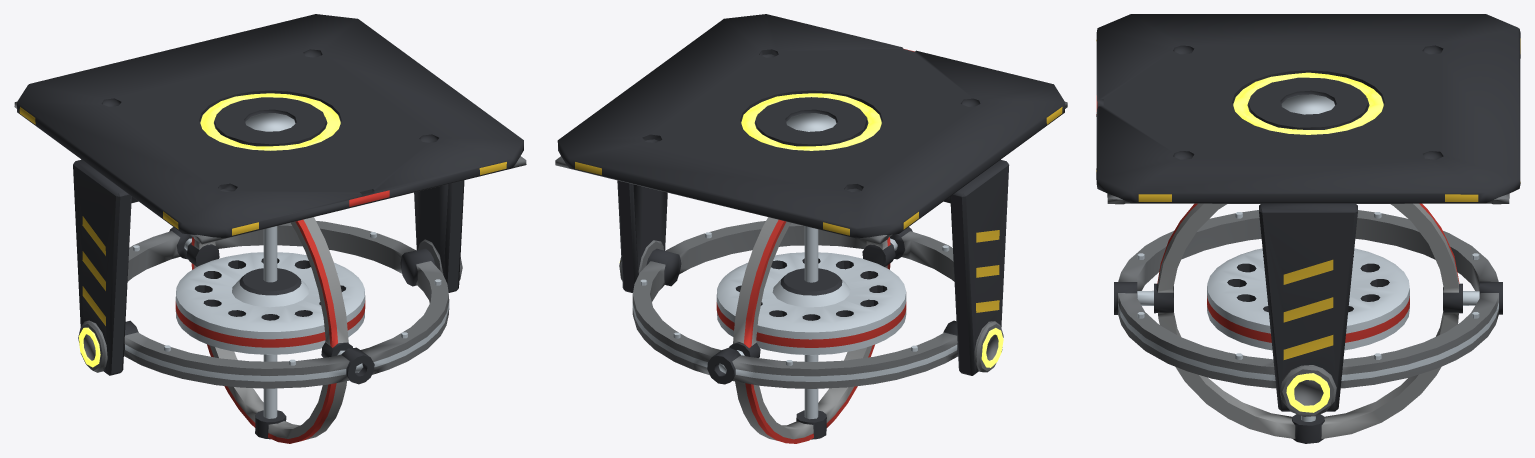
File: R4M_Gyroscope_LOD1.fbx
3 views of the same model, side by side, from view 1: azimuth 30°, elevation 25°; view 2: azimuth 150°, elevation 25°; view 3: azimuth 270°, elevation 25° (orthographic). The views are drawn at different scales.
Parts seen in each view (by area): view 1: R4M_Gyroscope_Yoke_LOD1, R4M_Gyroscope_OuterRing_LOD1, R4M_Gyroscope_Rotor_LOD1, R4M_Gyroscope_InnerRing_LOD1; view 2: R4M_Gyroscope_Yoke_LOD1, R4M_Gyroscope_OuterRing_LOD1, R4M_Gyroscope_Rotor_LOD1, R4M_Gyroscope_InnerRing_LOD1; view 3: R4M_Gyroscope_Yoke_LOD1, R4M_Gyroscope_OuterRing_LOD1, R4M_Gyroscope_InnerRing_LOD1, R4M_Gyroscope_Rotor_LOD1.
Part boxes in pixels (bbox=[...]): R4M_Gyroscope_Yoke_LOD1: bbox=[14, 14, 526, 375]; R4M_Gyroscope_OuterRing_LOD1: bbox=[124, 221, 449, 388]; R4M_Gyroscope_Rotor_LOD1: bbox=[175, 226, 365, 418]; R4M_Gyroscope_InnerRing_LOD1: bbox=[184, 217, 363, 443]; R4M_Gyroscope_Yoke_LOD1: bbox=[555, 14, 1067, 375]; R4M_Gyroscope_OuterRing_LOD1: bbox=[632, 221, 958, 388]; R4M_Gyroscope_Rotor_LOD1: bbox=[716, 226, 906, 419]; R4M_Gyroscope_InnerRing_LOD1: bbox=[718, 217, 897, 443]; R4M_Gyroscope_Yoke_LOD1: bbox=[1096, 14, 1520, 416]; R4M_Gyroscope_OuterRing_LOD1: bbox=[1114, 210, 1502, 388]; R4M_Gyroscope_InnerRing_LOD1: bbox=[1137, 203, 1479, 443]; R4M_Gyroscope_Rotor_LOD1: bbox=[1207, 248, 1409, 421].
Size of the model in its own units: 0.541 by 0.444 by 0.5108.
